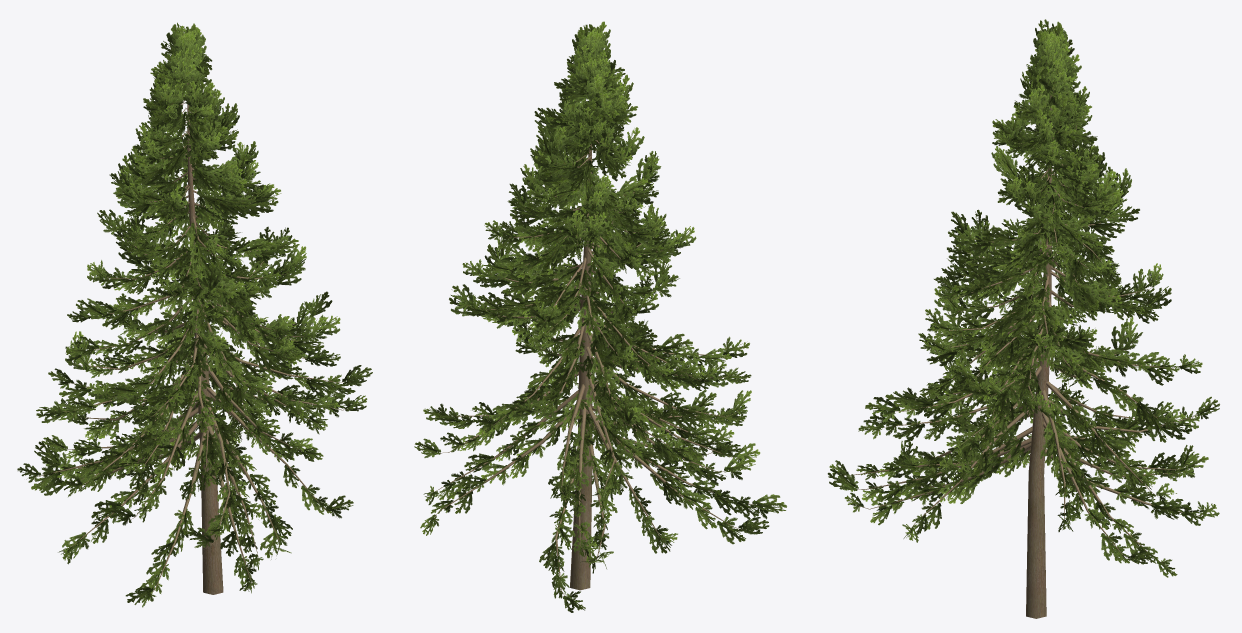
The model's file is tree_LOD1.glb.
3 views of the same model, side by side, from view 1: azimuth 30°, elevation 25°; view 2: azimuth 150°, elevation 25°; view 3: azimuth 270°, elevation 25° (orthographic). The views are drawn at different scales.
Visible parts, largest first — view 1: Leaves_LOD1, Branches_LOD1; view 2: Leaves_LOD1, Branches_LOD1; view 3: Leaves_LOD1, Branches_LOD1.
Part boxes in pixels (x1=…): Leaves_LOD1: x1=17, y1=22, x2=372, y2=607; Branches_LOD1: x1=26, y1=83, x2=354, y2=594; Leaves_LOD1: x1=414, y1=21, x2=786, y2=612; Branches_LOD1: x1=428, y1=94, x2=753, y2=598; Leaves_LOD1: x1=827, y1=19, x2=1219, y2=577; Branches_LOD1: x1=844, y1=89, x2=1207, y2=618.
Size of the model in its own units: 40.53 by 69.37 by 43.76.
Materials: 2 (2 with a texture image).
